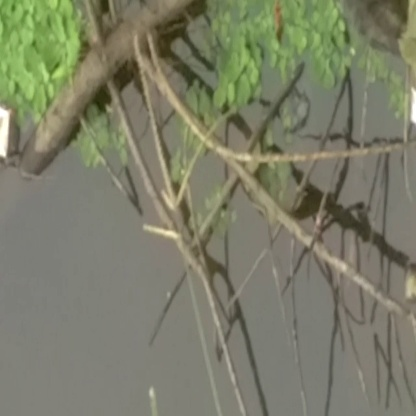branch: (26, 1, 242, 176)
